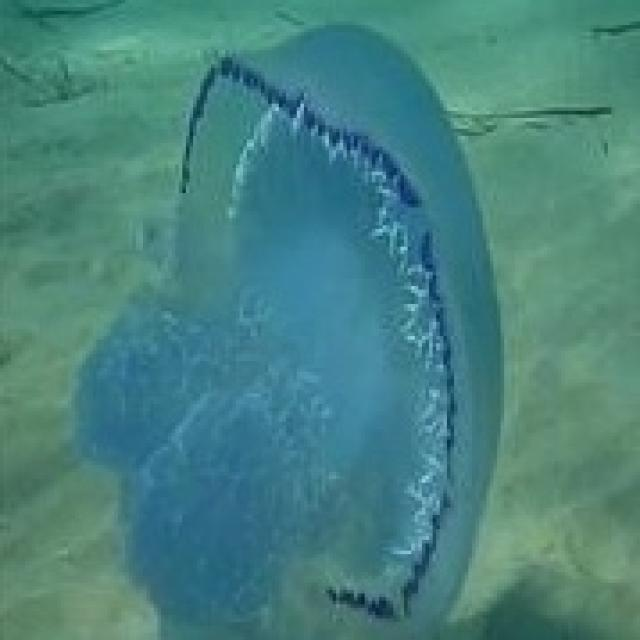Jellyfish: (68, 18, 508, 637)
